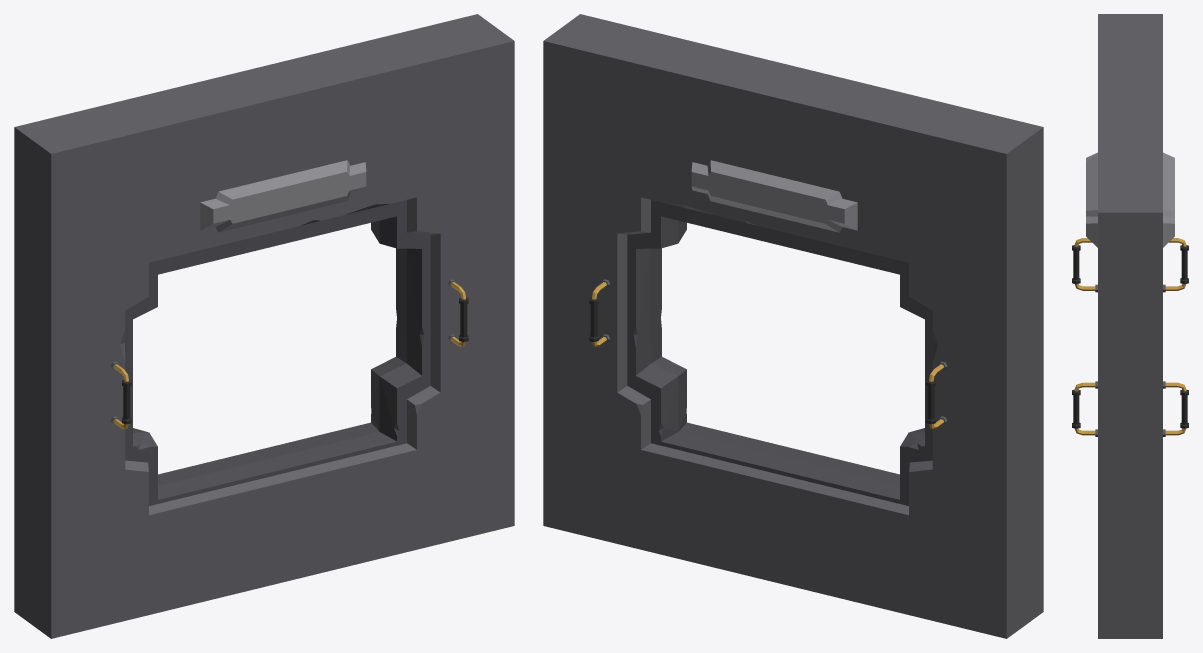
The model's file is SM_Bld_Wall_Doorframe_05.fbx.
The picture shows the model from 3 angles, left to right: view 1: azimuth 30°, elevation 25°; view 2: azimuth 150°, elevation 25°; view 3: azimuth 270°, elevation 25°; orthographic projection. The views are drawn at different scales.
Parts seen in each view (by area): view 1: SM_Bld_Wall_Doorframe_05_LOD0; view 2: SM_Bld_Wall_Doorframe_05_LOD0; view 3: SM_Bld_Wall_Doorframe_05_LOD0.
Part boxes in pixels (x1,y1,x2,y2): SM_Bld_Wall_Doorframe_05_LOD0: [14, 14, 514, 638]; SM_Bld_Wall_Doorframe_05_LOD0: [543, 14, 1043, 638]; SM_Bld_Wall_Doorframe_05_LOD0: [1072, 14, 1188, 638].
Bounding box in the file's own units: 124 × 500 × 500.
1 material, 1 textured.
